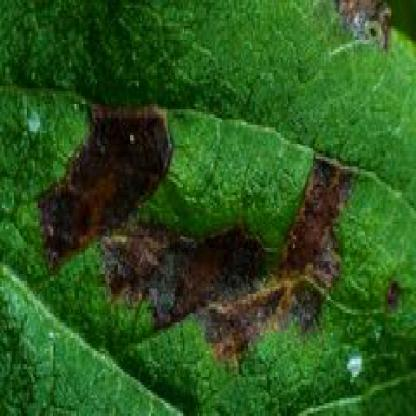apple scab leaf: (17, 42, 395, 385)
